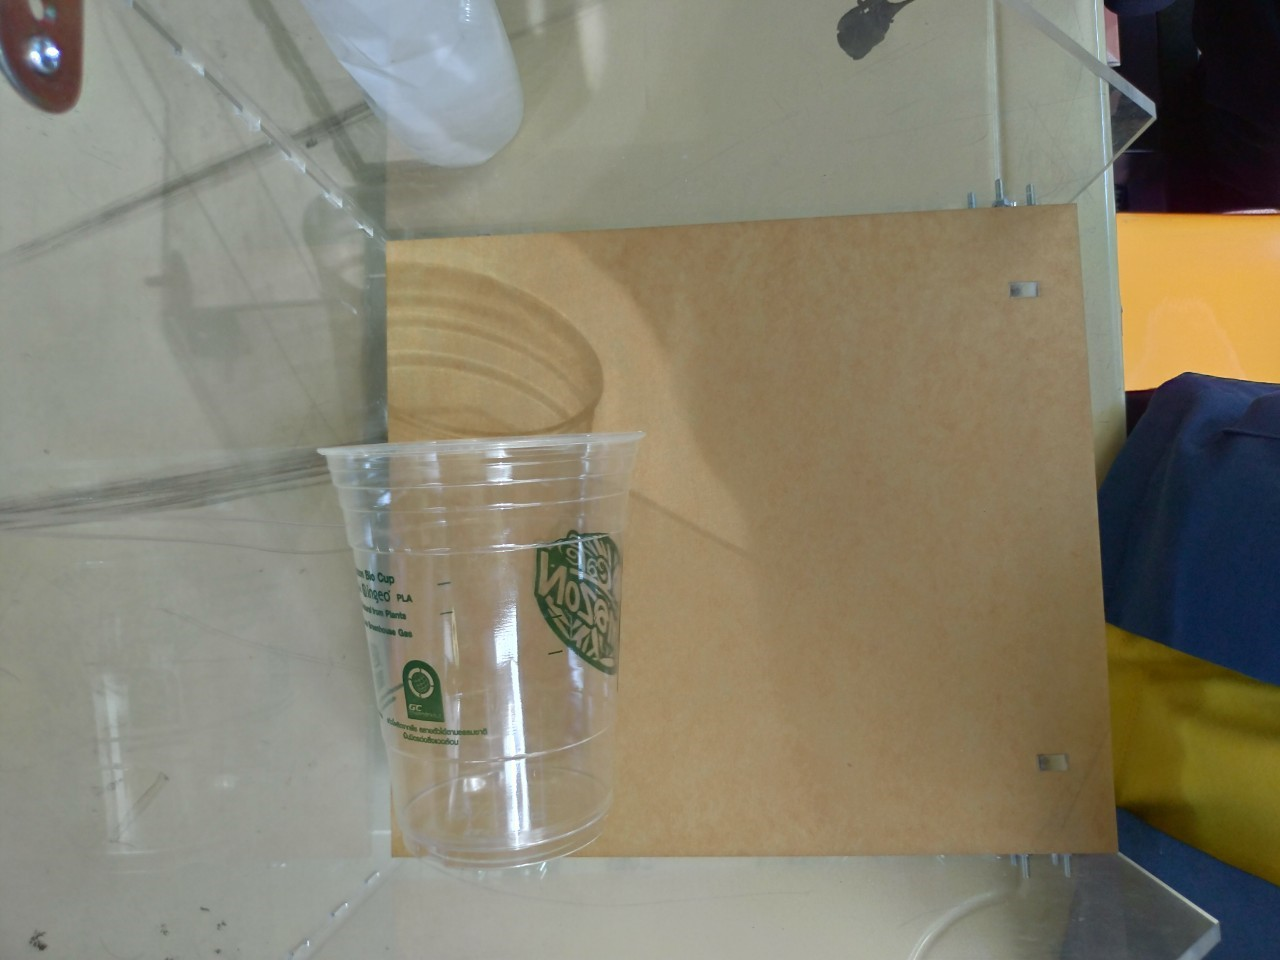PlasticCup: (319, 425, 644, 880)
